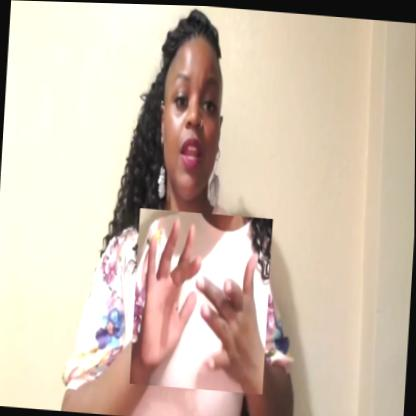Internet: (130, 207, 273, 392)
